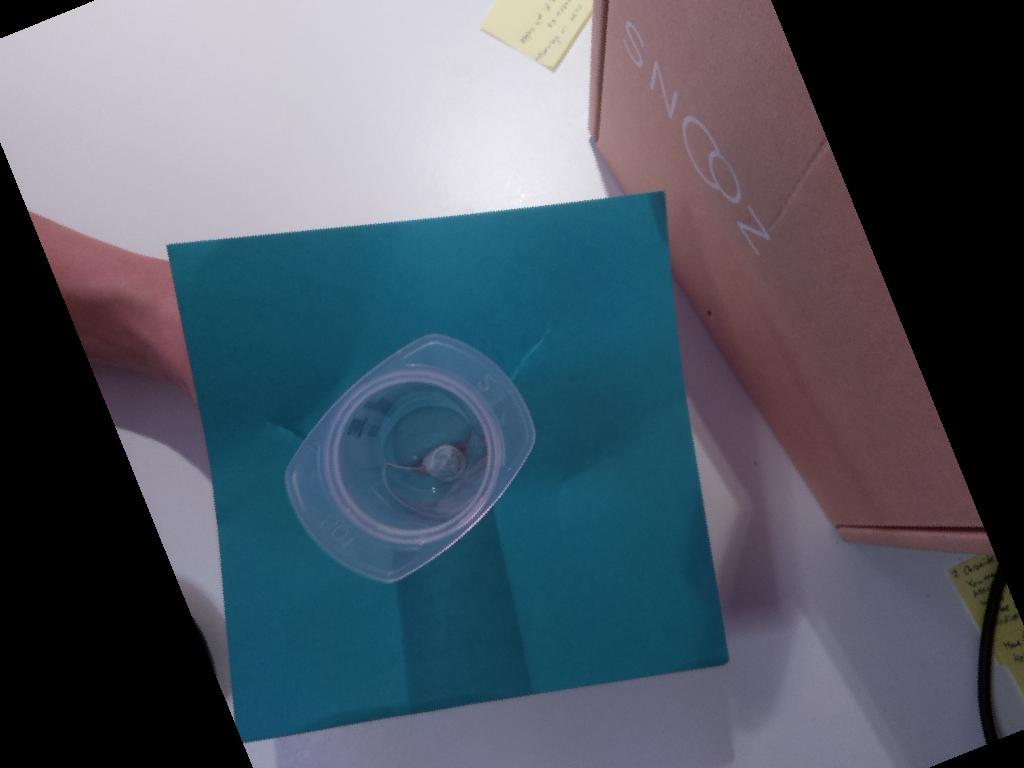clean: (283, 331, 538, 584)
